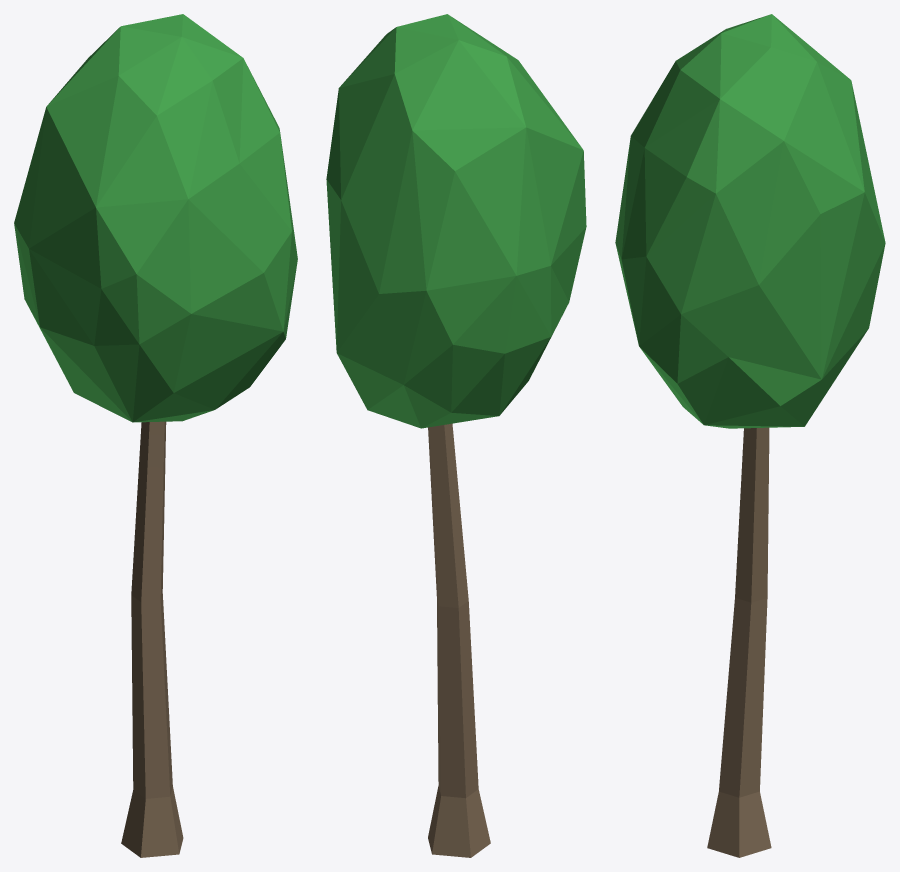
The model's file is tree_b_1.FBX.
The picture shows the model from 3 angles, left to right: view 1: azimuth 30°, elevation 25°; view 2: azimuth 150°, elevation 25°; view 3: azimuth 270°, elevation 25°; orthographic projection.
Parts seen in each view (by area): view 1: tree_b_1; view 2: tree_b_1; view 3: tree_b_1.
Boxes of the visible parts, x1=… form: tree_b_1: x1=14, y1=14, x2=297, y2=857; tree_b_1: x1=326, y1=14, x2=586, y2=857; tree_b_1: x1=615, y1=14, x2=885, y2=857.
Bounding box in the file's own units: 2.63 × 8.98 × 2.68.
